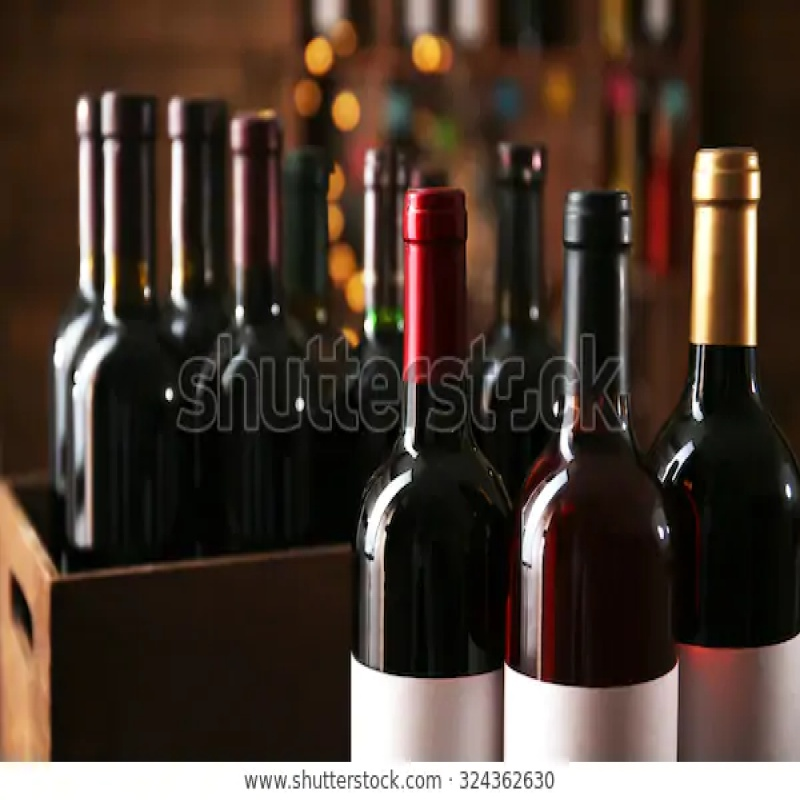wine: (521, 191, 676, 749), (359, 193, 504, 778), (680, 146, 798, 760)
